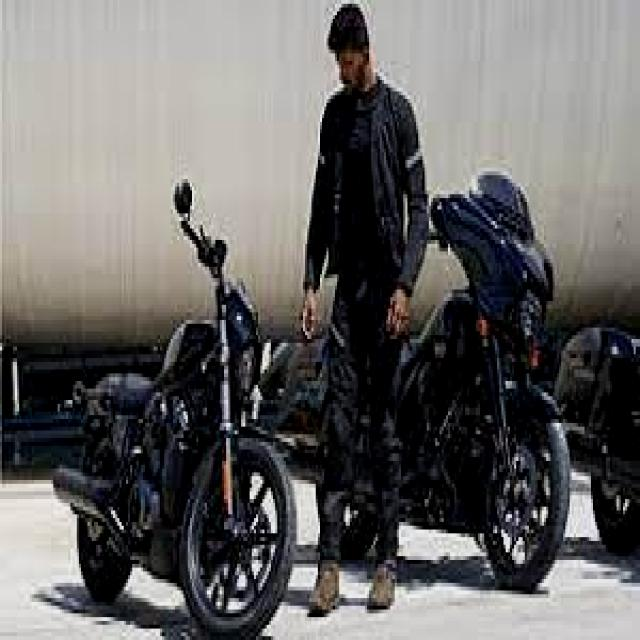MOTORCYCLE: (56, 275, 293, 640)
